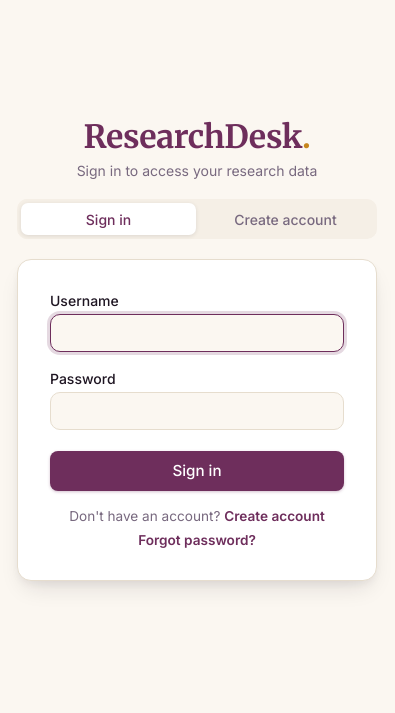
Scenario: shows password mismatch error in register mode
Click the 2nd button with class "login-tab-outer": (286, 219) [198,203,373,235]
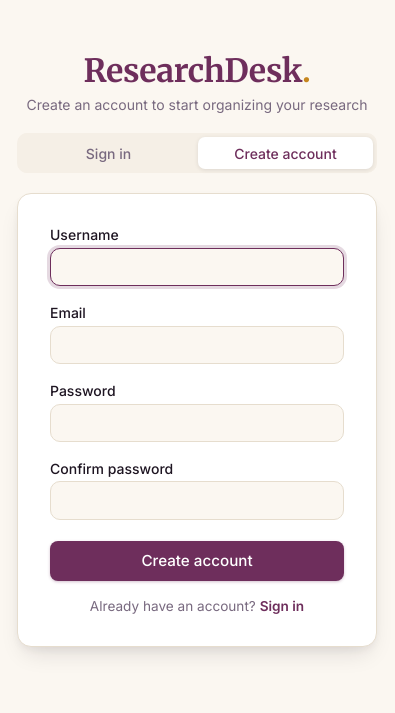
In the field labelled "Username": (197, 267) [51,248,343,285], type "alice"
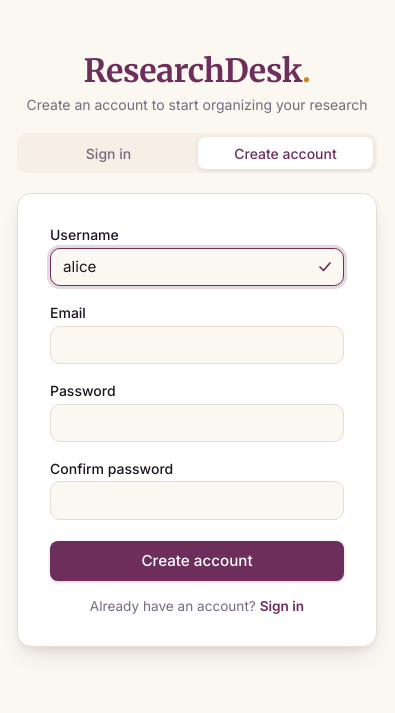
In the field labelled "Email": (197, 345) [51,326,343,363], type "alice@test.com"
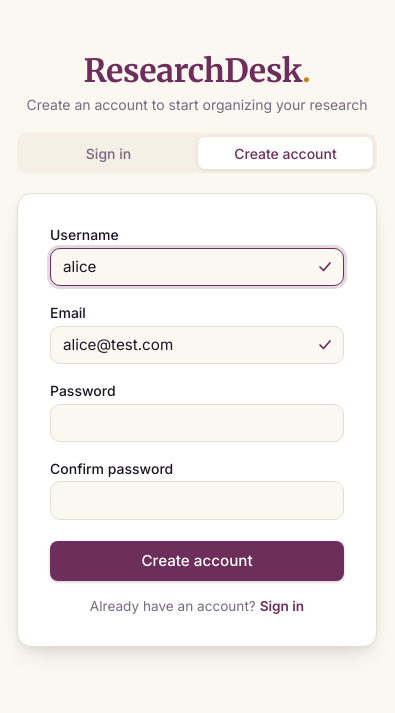
In the password field labelled "Password": (197, 423) [51,404,343,441], type "password123"
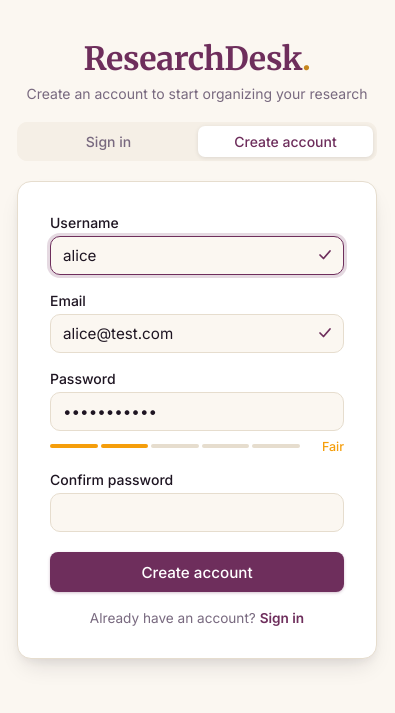
In the password field labelled "Confirm password": (197, 512) [51,494,343,531], type "different"
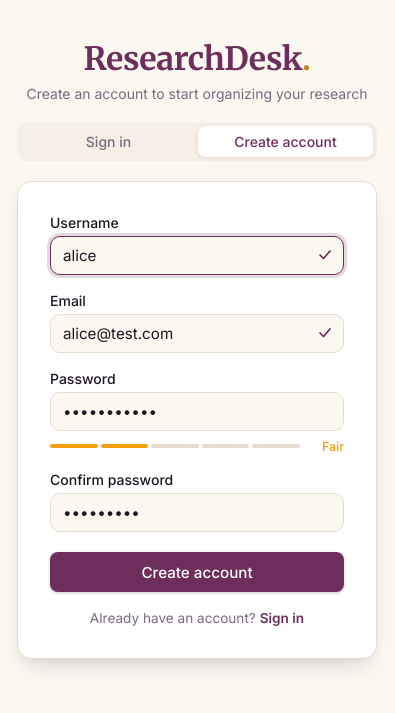
Submit the form with class "login-form"
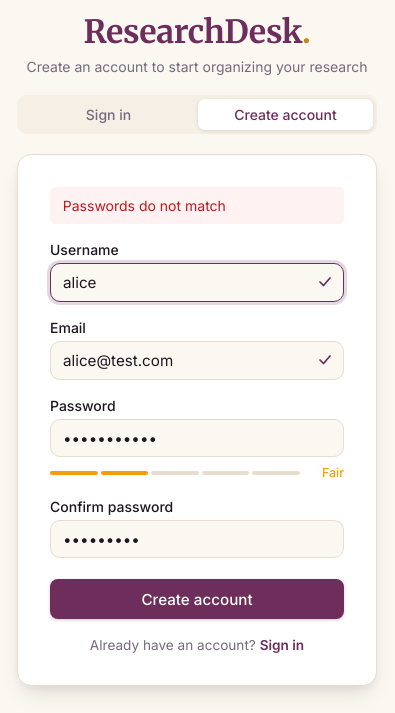
Expected: the text "Passwords do not match" is shown, [50,187,344,224]
